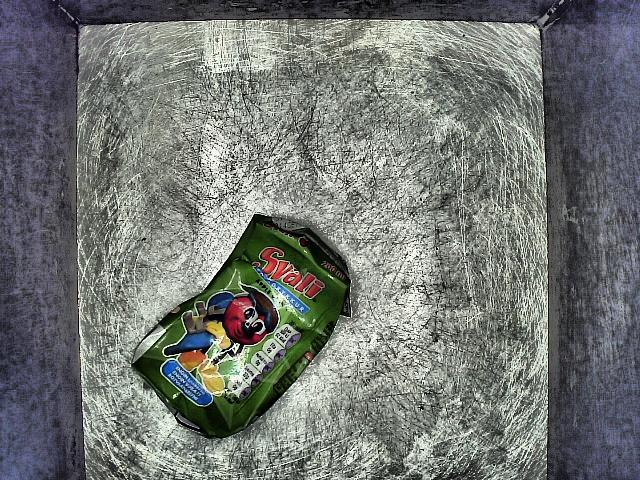Paper: (126, 207, 359, 445)
